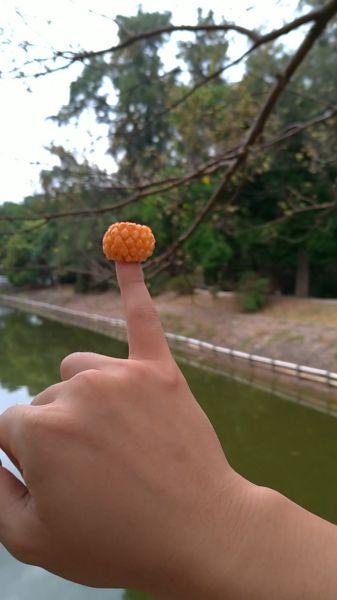eggs: (101, 220, 155, 265)
